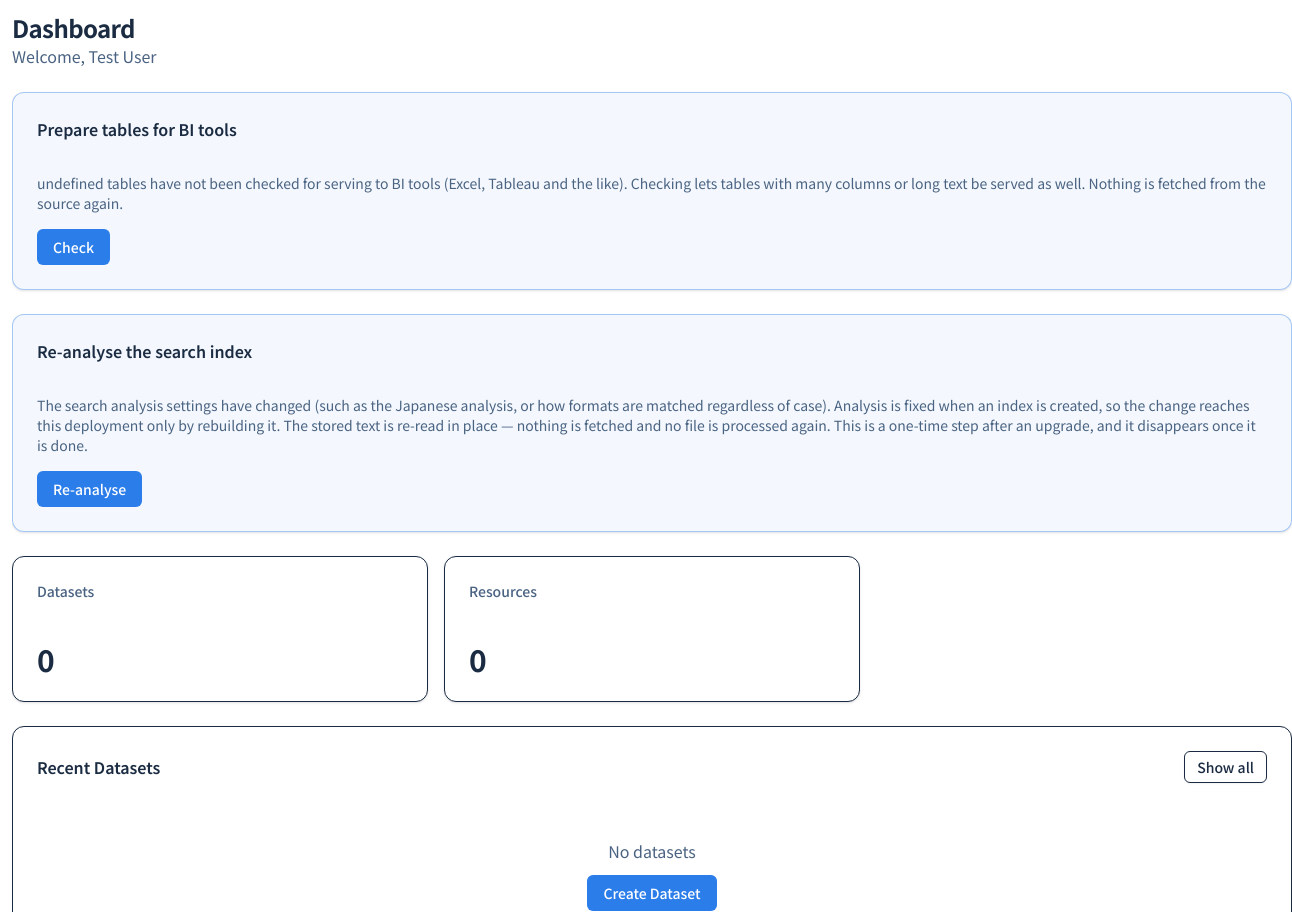
Test case: DashboardPage › search re-analysis notice › says so when the queue would not take it, and lets them try again
The width and height of the screenshot is (1292, 912).
Click the button "Re-analyse".
click(90, 489)  # box [37,471,142,507]
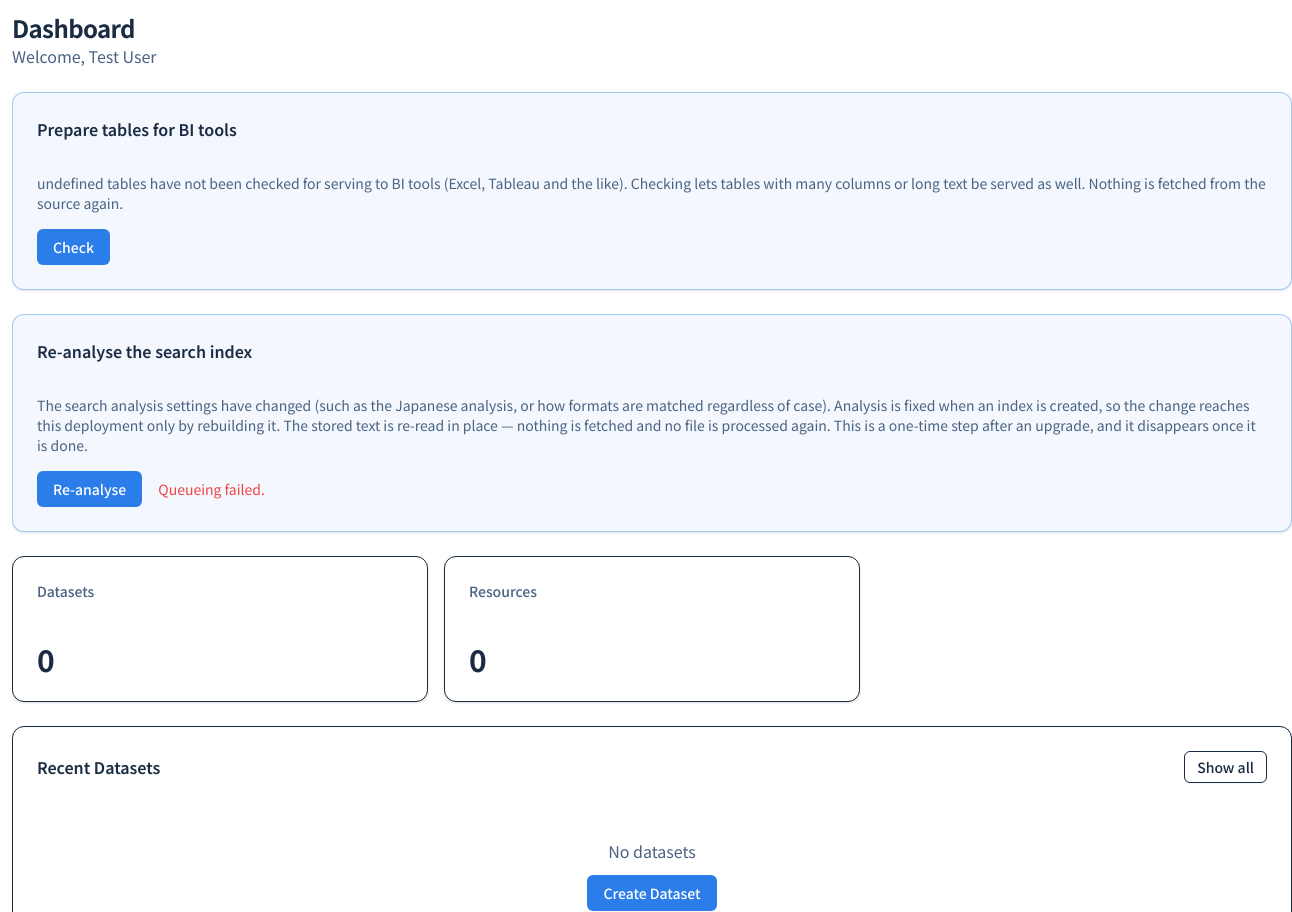
Now the message "Queueing failed." is shown, box [158,479,265,499]
